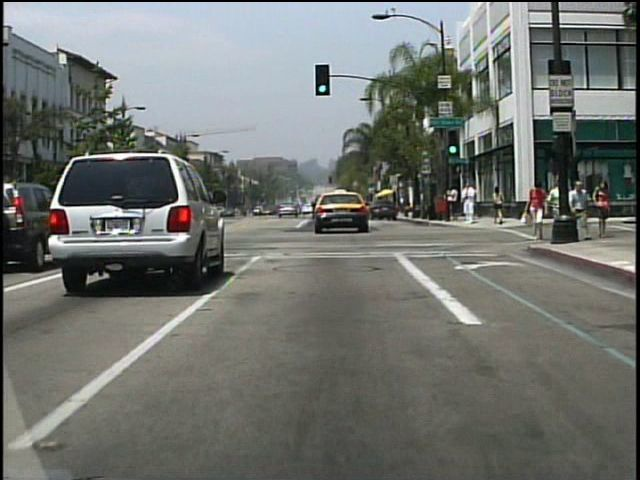person: (522, 181, 549, 242), (570, 179, 592, 243), (592, 177, 613, 240), (546, 179, 567, 240), (553, 180, 570, 230), (530, 188, 545, 229), (463, 183, 477, 226), (491, 187, 506, 227), (447, 182, 458, 222)
